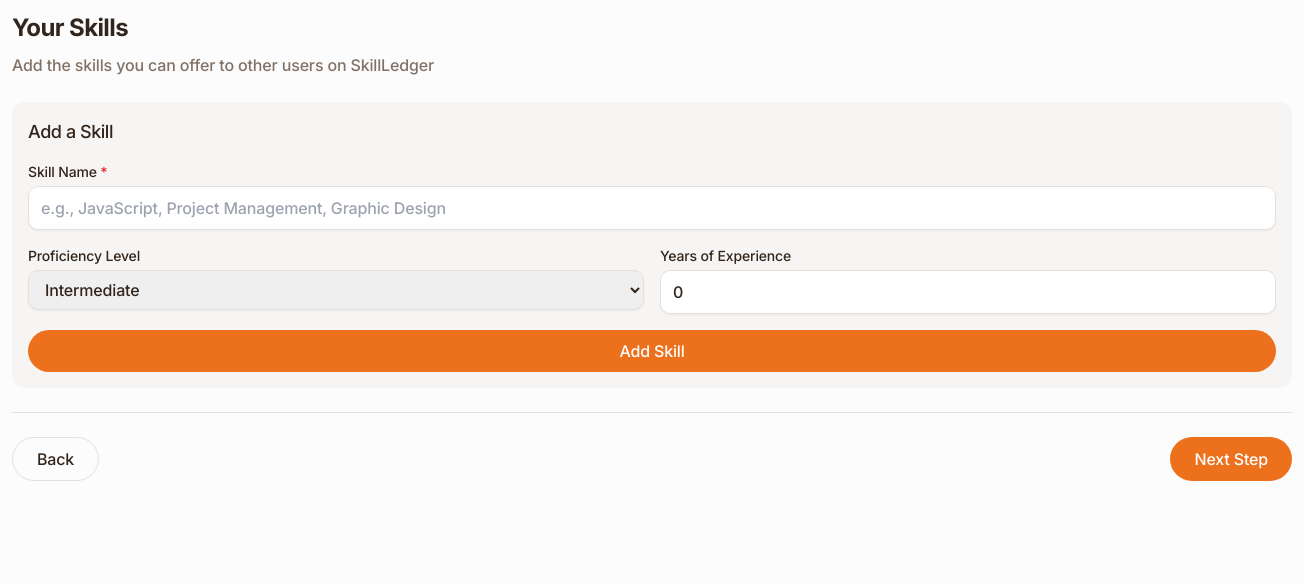
Test: Step2SkillSelection › shows error when trying to add skill without name
The width and height of the screenshot is (1304, 584).
What coordinates should you click on to do the following:
click the button "Add Skill"
I would click on:
 (652, 351)
Its box is x1=28 y1=330 x2=1276 y2=372.
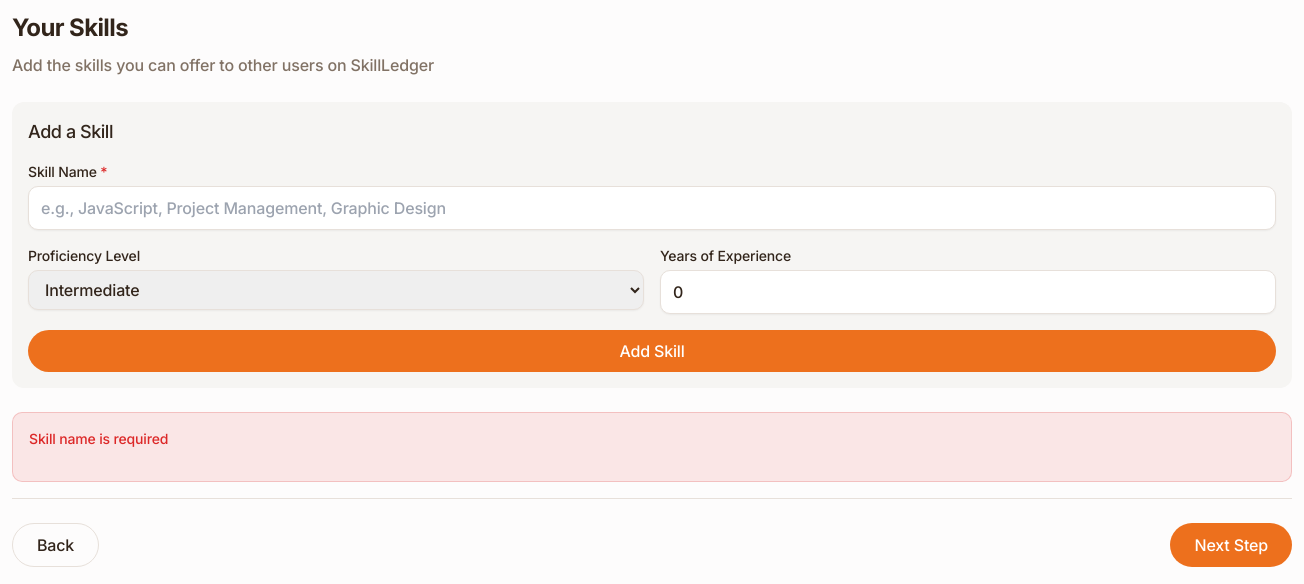
Check: the text "Skill name is required" is shown, box x1=29 y1=430 x2=168 y2=447
